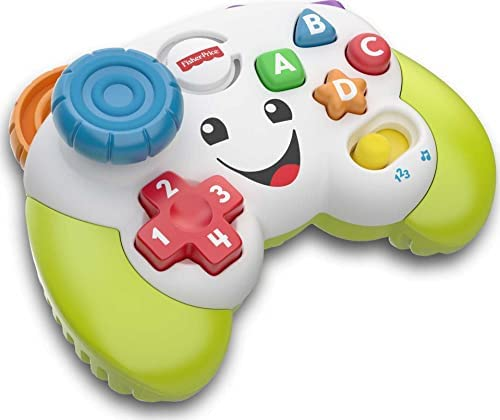controller: (10, 1, 496, 403)
